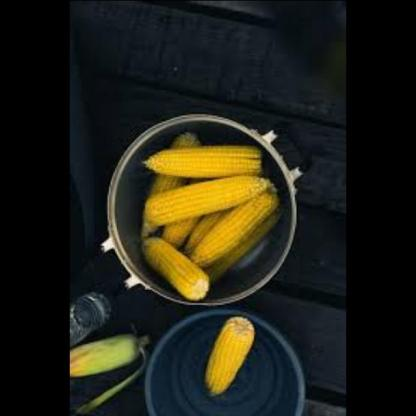corn: (142, 169, 274, 228), (138, 131, 275, 181), (188, 191, 273, 267), (193, 312, 265, 400), (139, 234, 215, 305), (69, 326, 147, 387)
